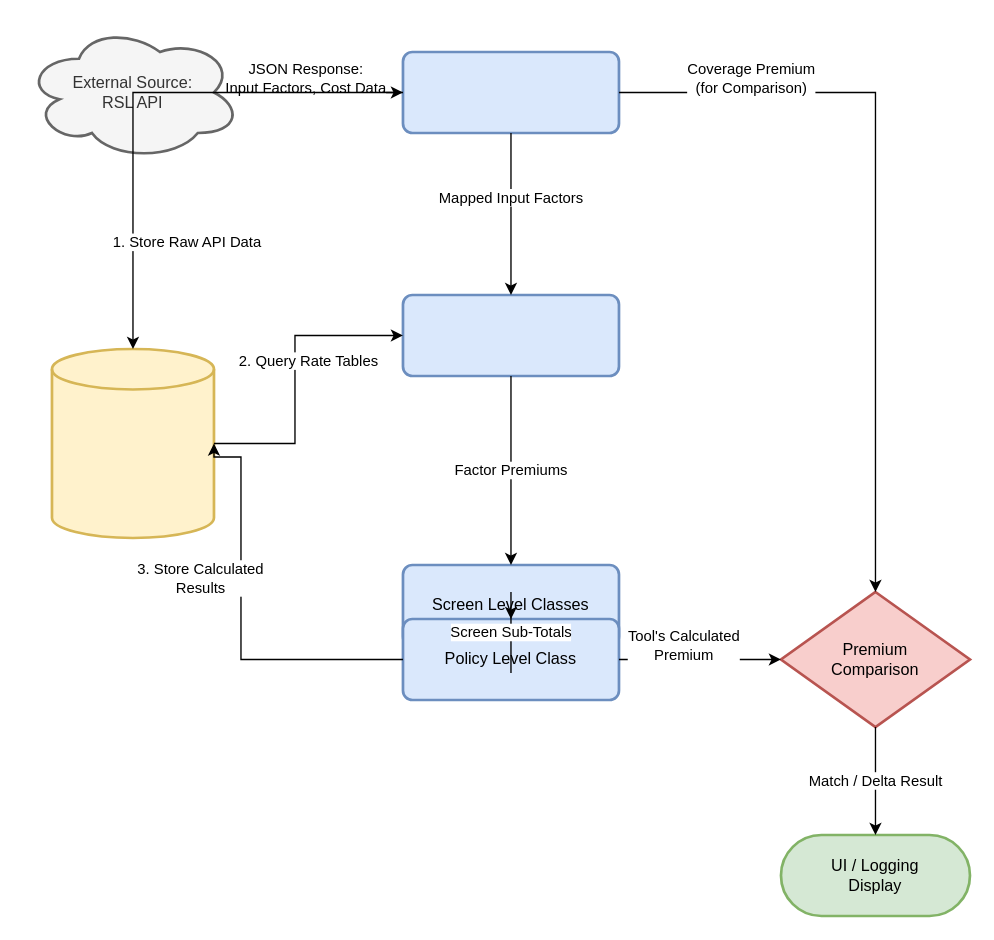
The diagram is 994 pixels wide and 940 high, and some of its shapes have lost their labels. Each missing label, with the centre of its shape:
Factor Level Class: pixel 510 335
JSON Mapper & Class: pixel 510 92
MySQL Database (Rates, API Data & Results): pixel 132 443
